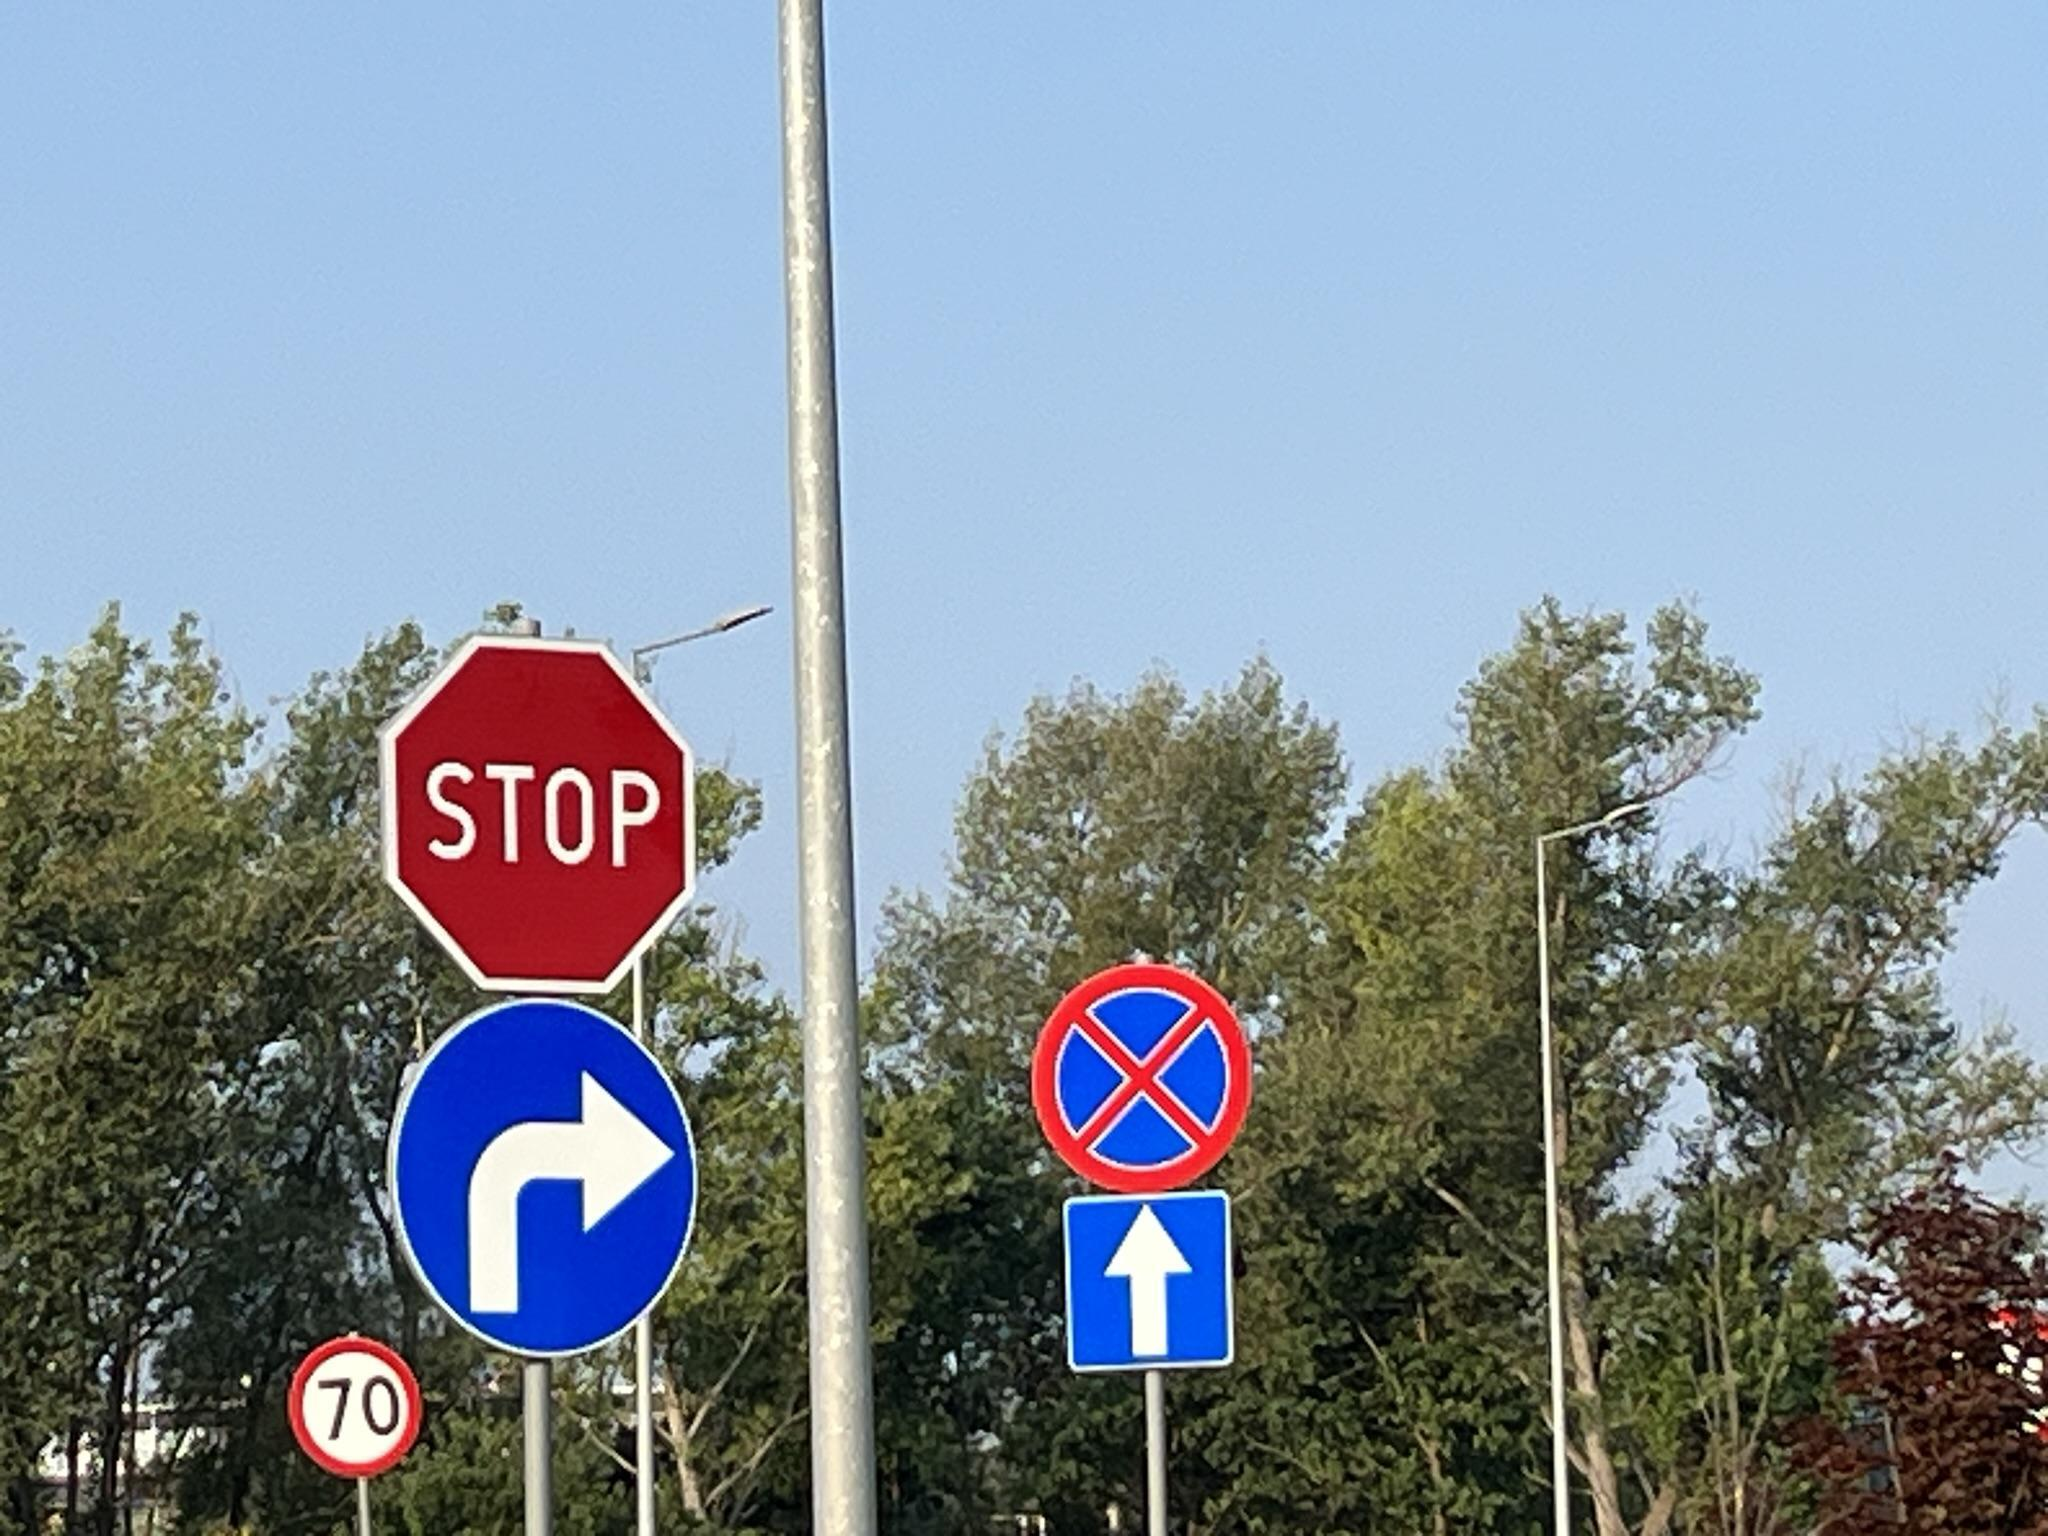information: (1064, 1192, 1229, 1375)
mandatory: (385, 994, 701, 1359)
prohibitory: (376, 632, 697, 994), (1029, 962, 1255, 1194), (287, 1334, 423, 1478)
